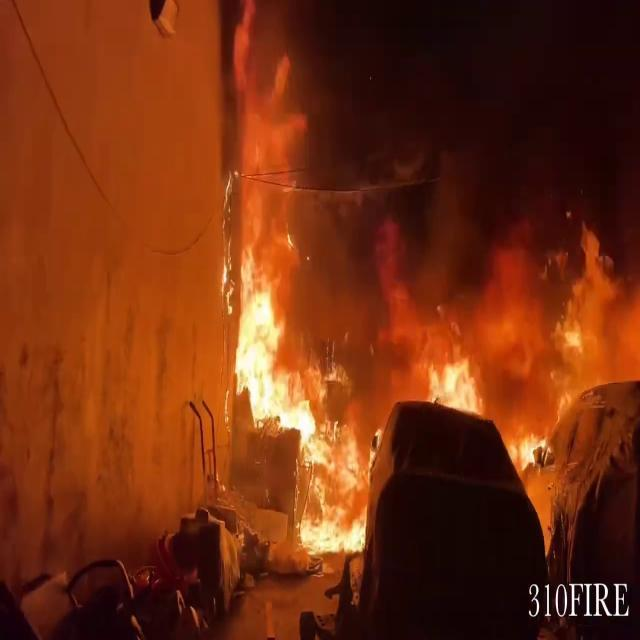Fire: (218, 228, 368, 560), (424, 342, 484, 422), (507, 431, 554, 474)
Smoke: (395, 200, 640, 422), (219, 0, 345, 324)
